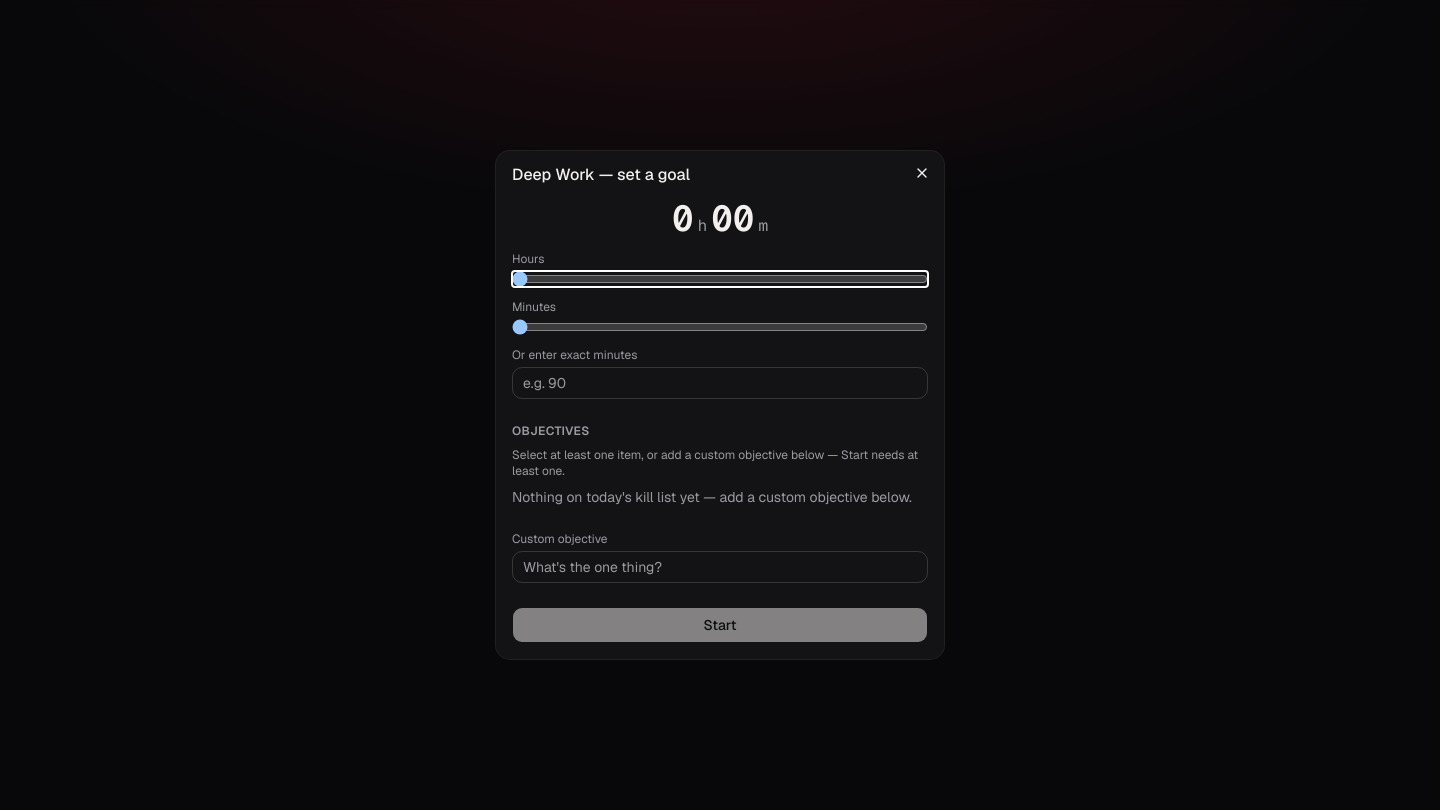
SessionSetupDialog › duration › rejects a total over the 8-hour cap typed in the text field, keeping Start disabled
Type "481" into the field named "Duration in minutes" at [720, 383], box [512,367,928,399]
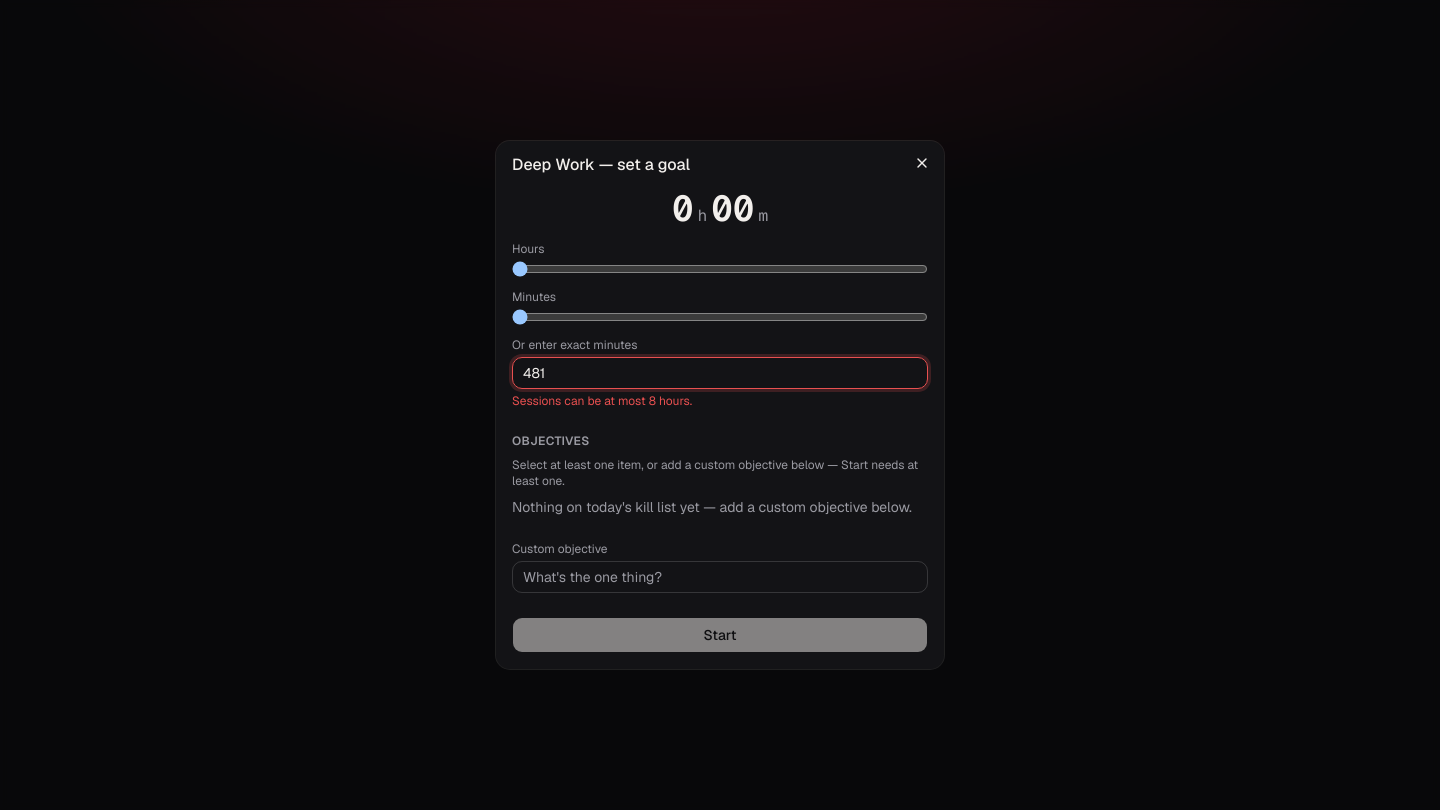
Expected: the button "Start" is disabled, [512,617,928,653]
Result: the text "Sessions can be at most 8 hours." is shown at [512,393,692,409]
